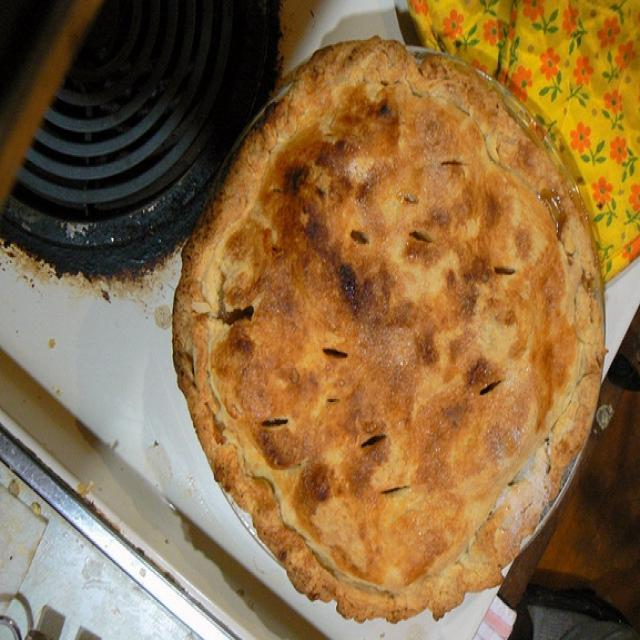Apple: (178, 34, 603, 610)
